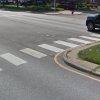Crosswalk: (0, 36, 84, 61)
